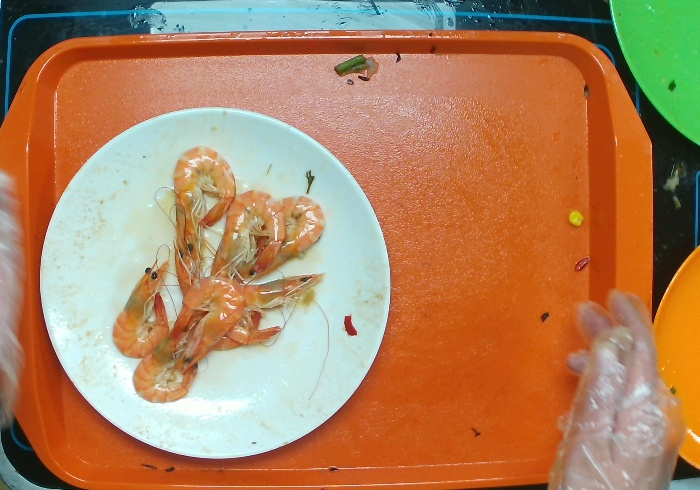HZYJPL-Bai_Se_Yuan_Pan: (38, 104, 391, 460)
